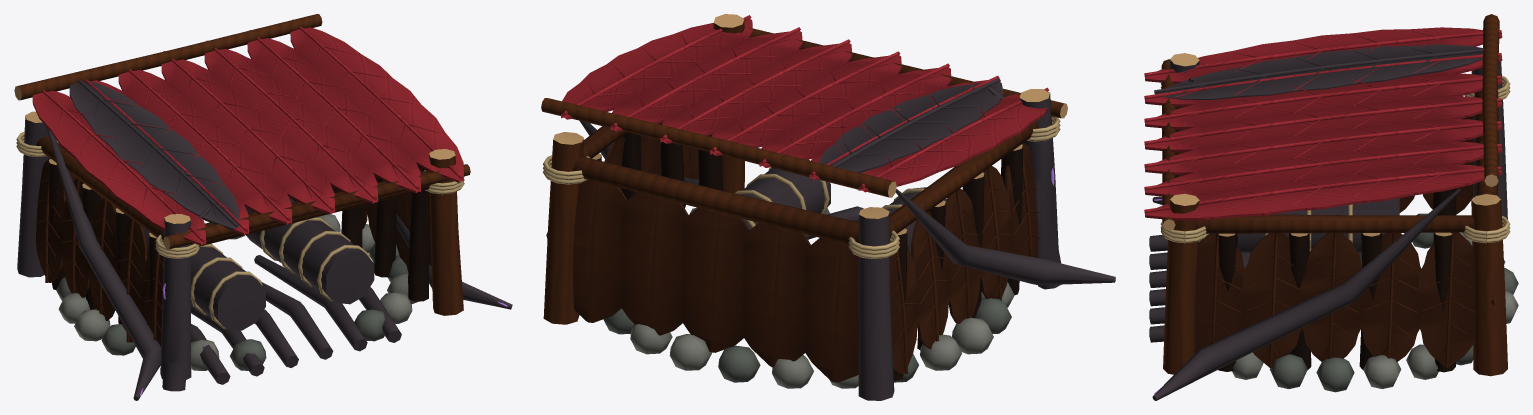
The picture shows the model from 3 angles, left to right: view 1: azimuth 30°, elevation 25°; view 2: azimuth 150°, elevation 25°; view 3: azimuth 270°, elevation 25°; orthographic projection. The views are drawn at different scales.
Parts seen in each view (by area): view 1: canopy-rootworks · evaluated preview mesh; view 2: canopy-rootworks · evaluated preview mesh; view 3: canopy-rootworks · evaluated preview mesh.
Boxes of the visible parts, x1,y1,x2,y2 form: canopy-rootworks · evaluated preview mesh: [14, 14, 512, 400]; canopy-rootworks · evaluated preview mesh: [541, 14, 1115, 400]; canopy-rootworks · evaluated preview mesh: [1144, 14, 1518, 400].
Bounding box in the file's own units: 6.3 × 3.21 × 4.97.
10 materials, 4 textured.
